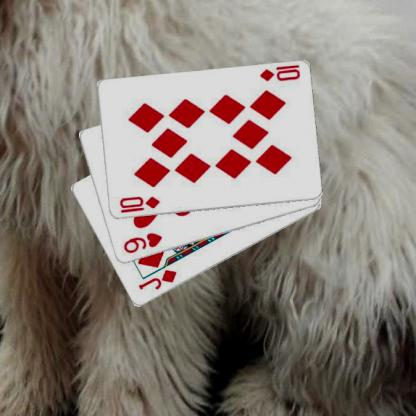10D: (116, 194, 160, 215), (257, 62, 301, 83)
9H: (121, 230, 164, 255)
JD: (136, 267, 178, 291)
